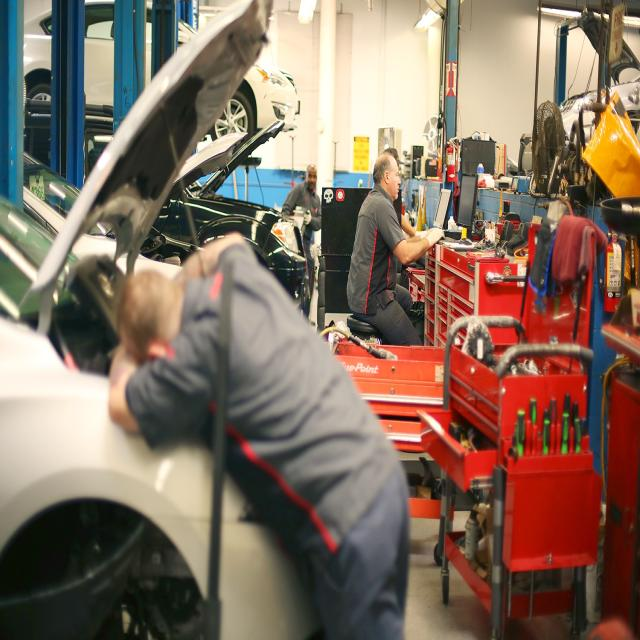body: (103, 228, 416, 639), (345, 152, 446, 348), (281, 163, 322, 327), (372, 146, 419, 238)
